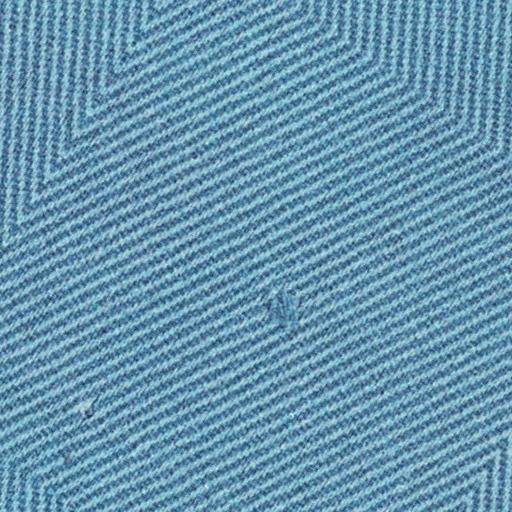knot: (262, 280, 327, 338)
